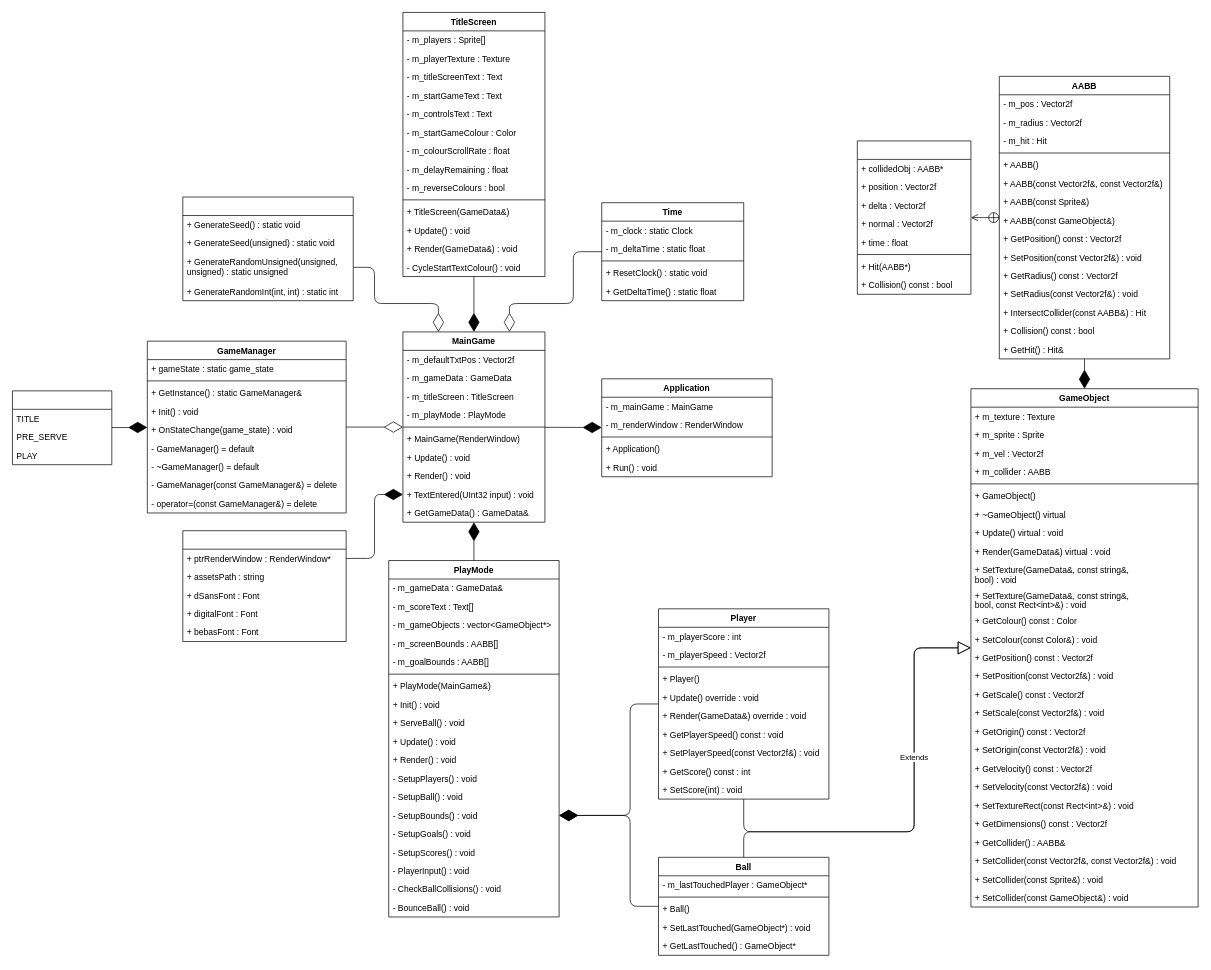
Image size: 1211x970. Some labels were removed from this diagram. The shapes that lost their labels are listed below. From the top down, each one's box as (x1, y1, x2, y2) in pixels, then its label:
(857, 140, 971, 294): struct Hit
(182, 196, 353, 301): RandomNumberGenerator
(12, 390, 112, 465): enum class game_state
(182, 530, 346, 641): struct GameData
